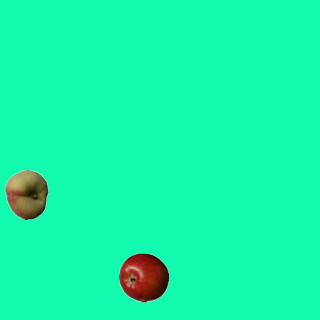Apple Braeburn: (118, 252, 168, 302)
Peach Flat: (1, 169, 51, 219)
